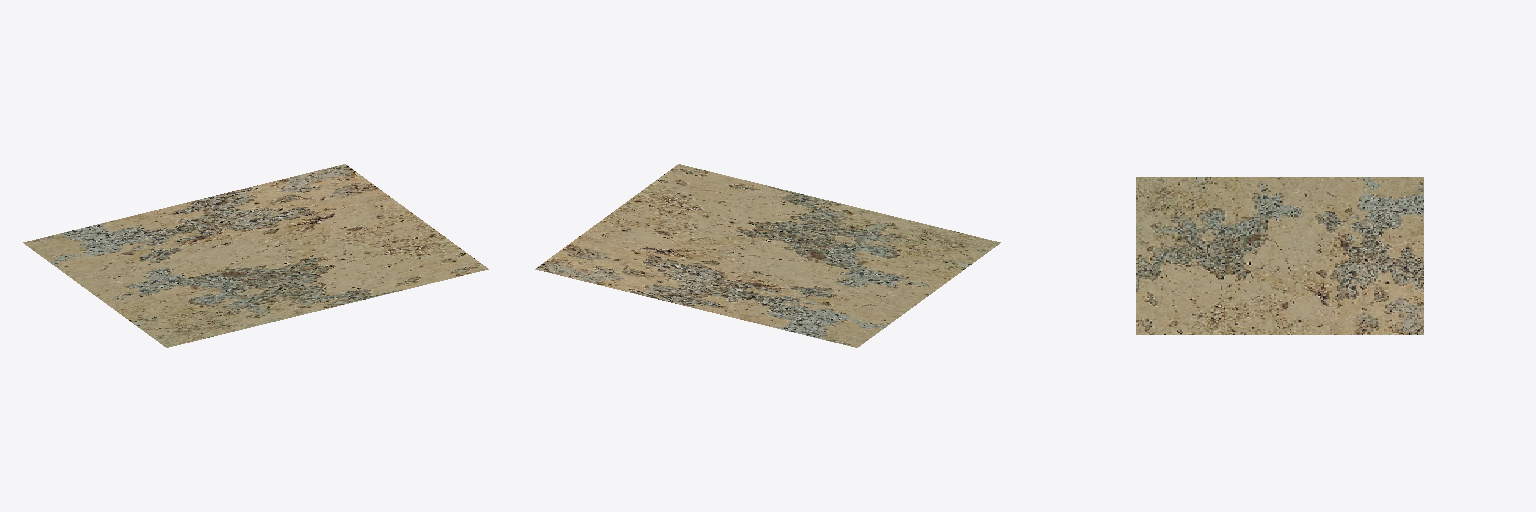
The picture shows the model from 3 angles: view 1: azimuth 30°, elevation 25°; view 2: azimuth 150°, elevation 25°; view 3: azimuth 270°, elevation 25°; orthographic projection.
Parts seen in each view (by area): view 1: Boden; view 2: Boden; view 3: Boden.
Boxes of the visible parts, x1=… form: Boden: x1=23, y1=164, x2=488, y2=347; Boden: x1=535, y1=164, x2=1000, y2=347; Boden: x1=1136, y1=177, x2=1423, y2=334.
Size of the model in its own units: 4.4 by 0 by 3.4.
1 materials, 1 textured.